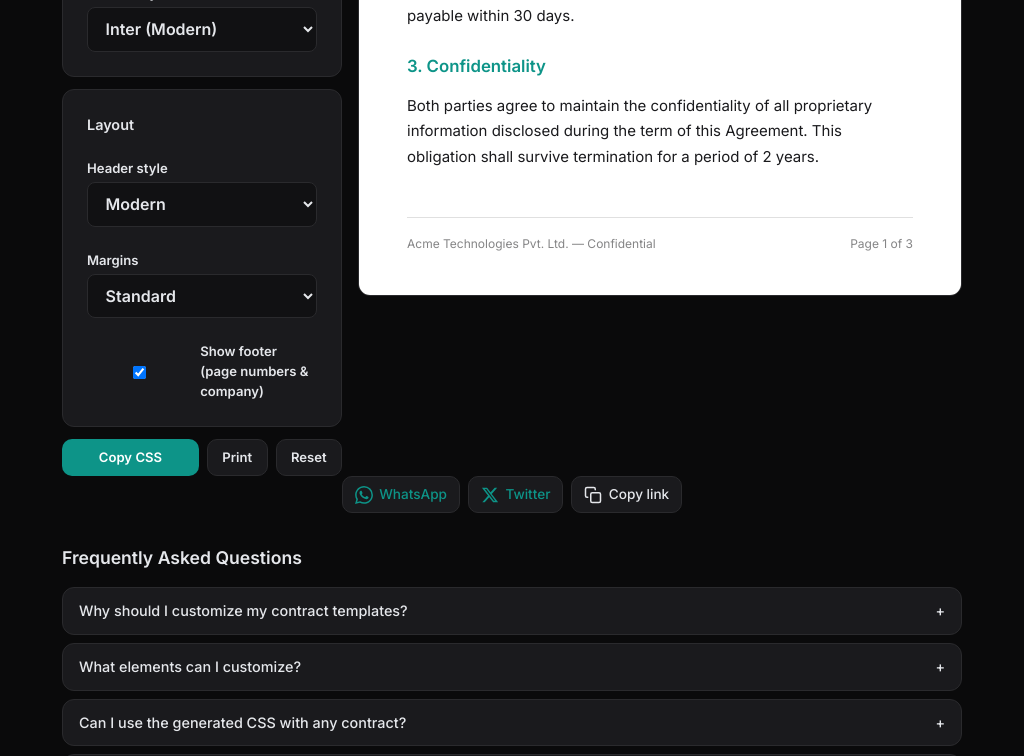
Test: TemplateCustomizerPage › hides footer when unchecked
(page scrolled)
Expected: the text "Page 1 of 3" is shown, [850,234,913,255]
Click the checkbox at (140, 372), box [87,366,192,378]
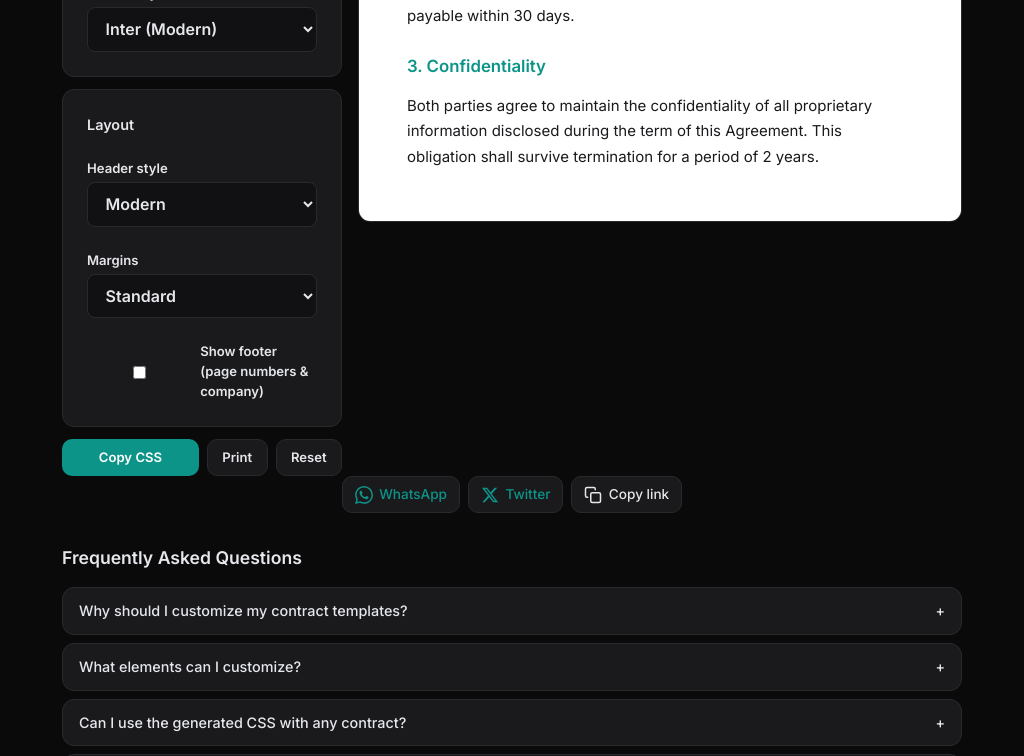
Now the text "Page 1 of 3" is gone
